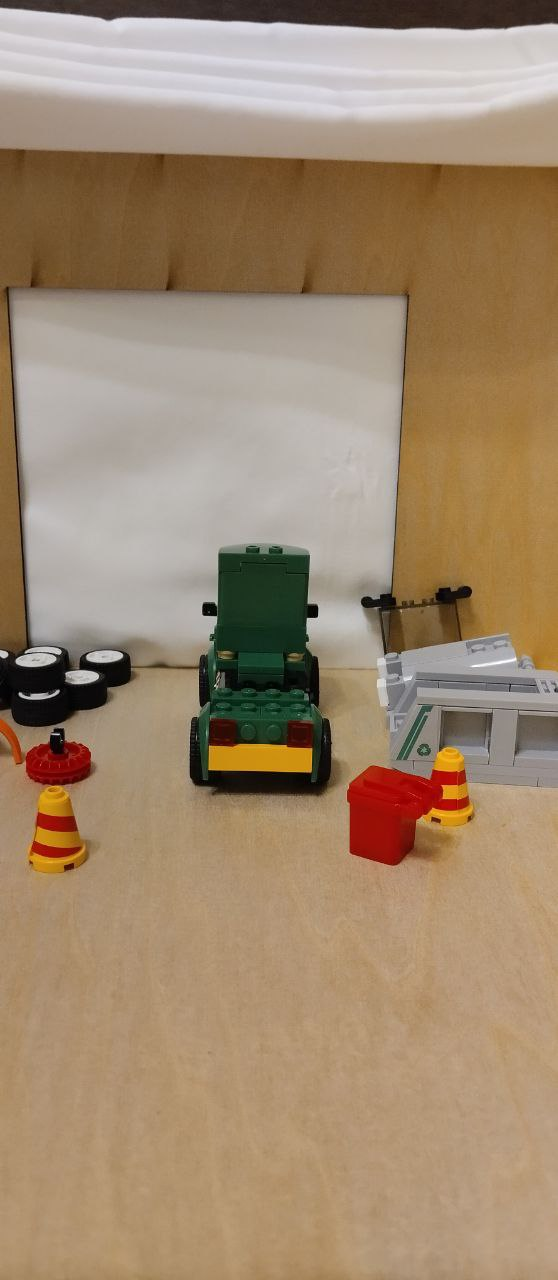Cone: (19, 777, 95, 876), (418, 743, 488, 832)
Object Red: (342, 760, 444, 869)
Truck: (185, 538, 335, 791)
